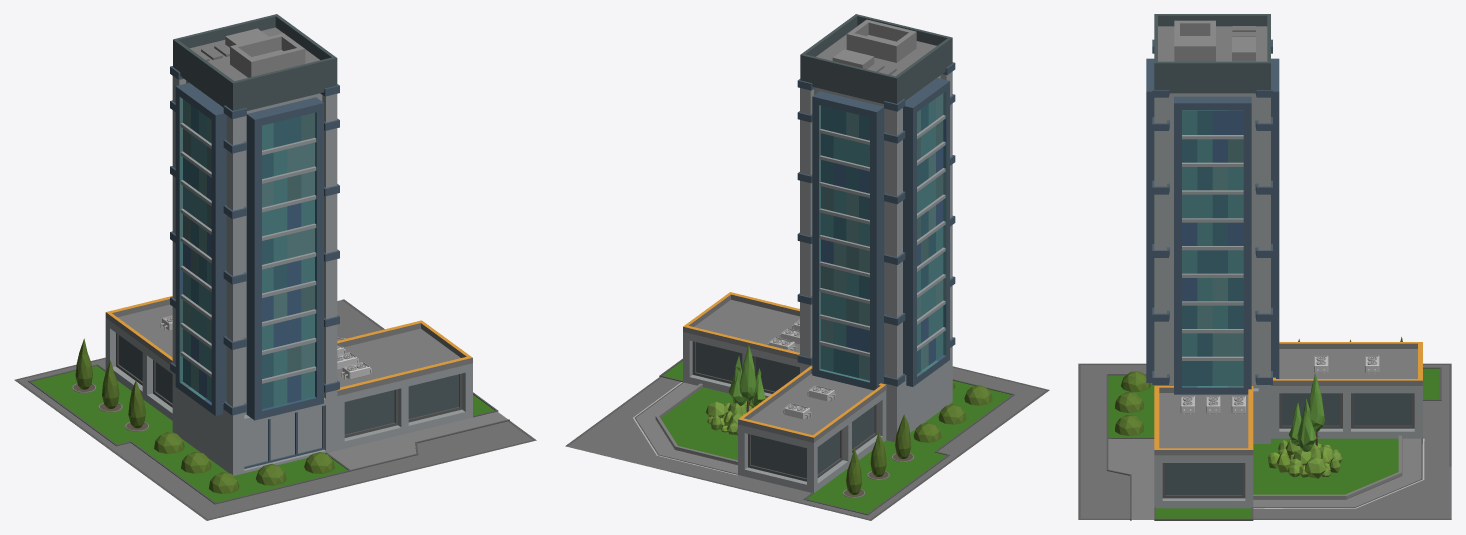
File: office.glb
The picture shows the model from 3 angles, left to right: view 1: azimuth 30°, elevation 25°; view 2: azimuth 150°, elevation 25°; view 3: azimuth 270°, elevation 25°; orthographic projection. The views are drawn at different scales.
Visible parts, largest first — view 1: lpc00100; view 2: lpc00100; view 3: lpc00100.
Boxes of the visible parts, x1,y1,x2,y2 form: lpc00100: (14, 14, 536, 520); lpc00100: (565, 14, 1049, 520); lpc00100: (1078, 14, 1451, 520).
Size of the model in its own units: 4.75 by 5.53 by 4.8.
